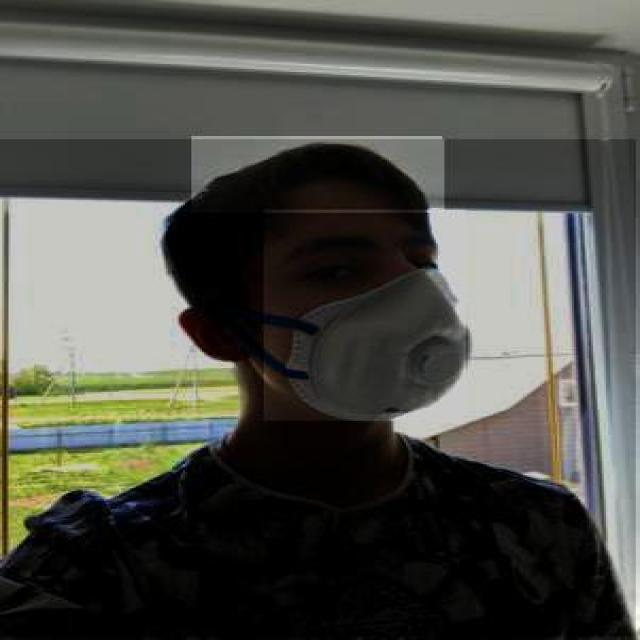face_mask: (264, 210, 466, 420)
head_nohelmet: (192, 136, 444, 213)
person: (0, 140, 638, 638)
